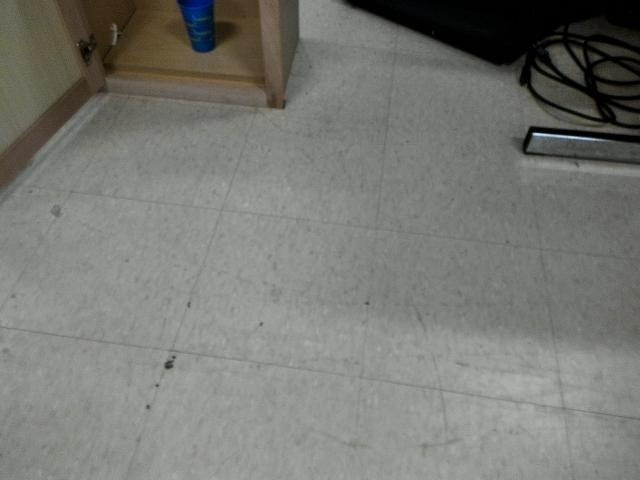water_cup: (176, 2, 223, 53)
